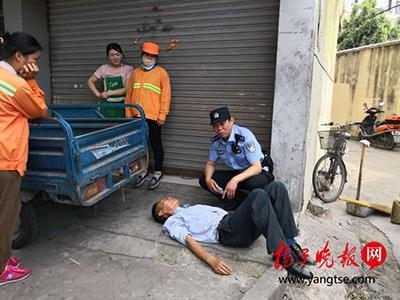bending: (195, 104, 273, 204)
down: (149, 182, 314, 281)
up: (1, 31, 55, 284), (118, 42, 178, 188), (86, 41, 139, 132)
